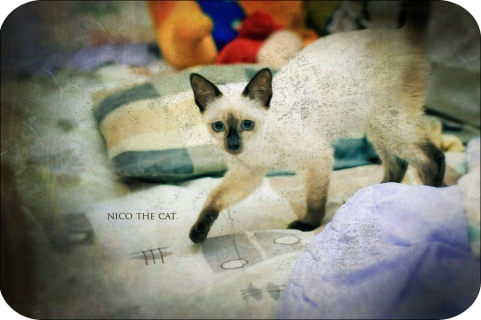Cat: (189, 27, 446, 243)
